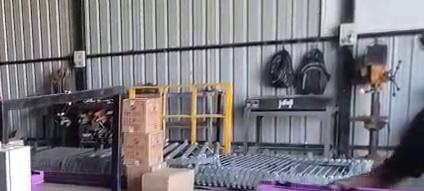box: (258, 183, 338, 190), (31, 171, 43, 190)
